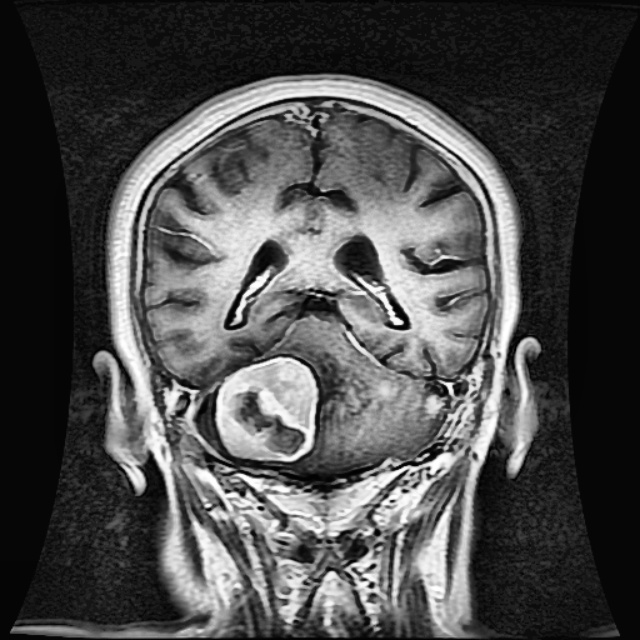Glioma: (215, 354, 318, 459)
